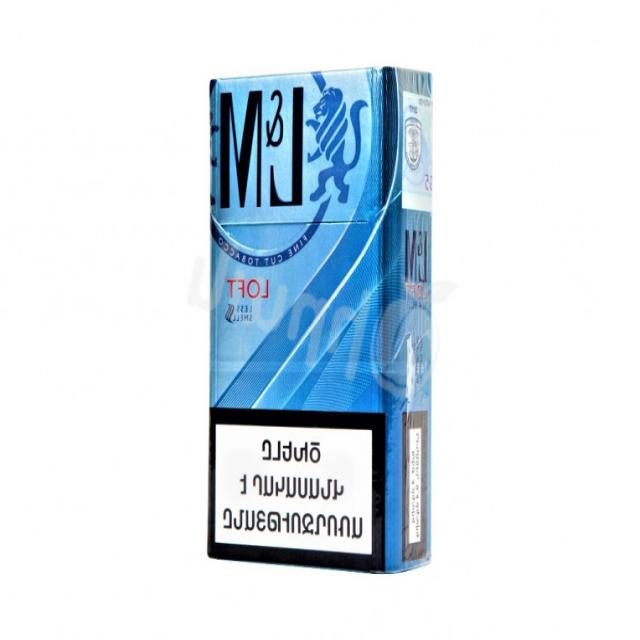lm: (188, 63, 446, 578)
